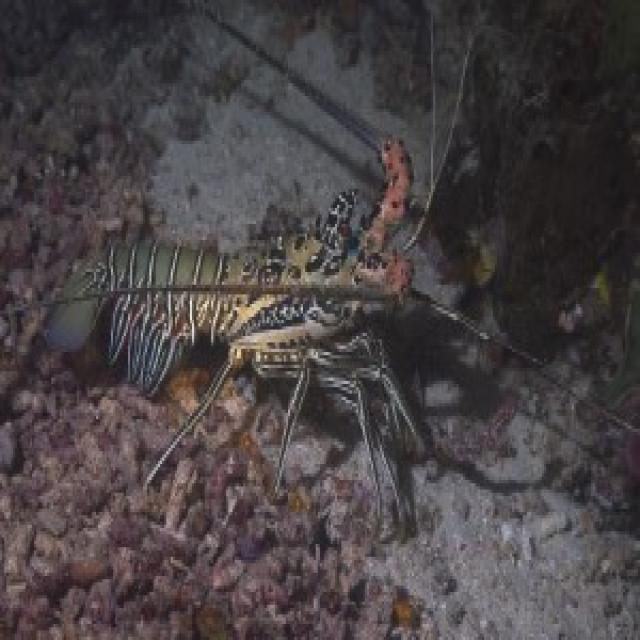lobsters: (32, 97, 486, 504)
